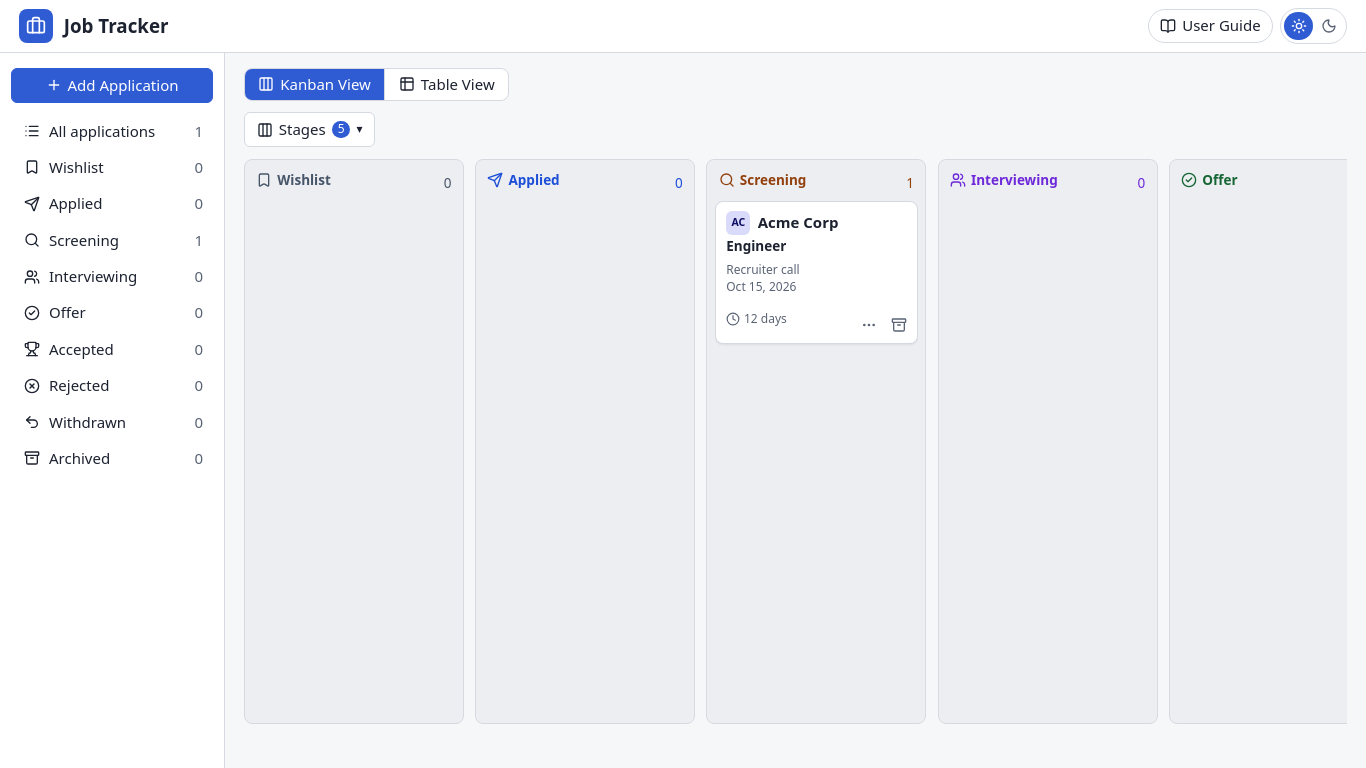
Test: opening an application from the board and editing it (spec 013) › closes the form right away when nothing changed (AC-6)
What coordinates should you click on to do the following:
click the button "AC Acme Corp Engineer Recruiter call Oct 15, 2026 12 days"
I would click on:
 (816, 272)
Its box is [715,201,918,344].
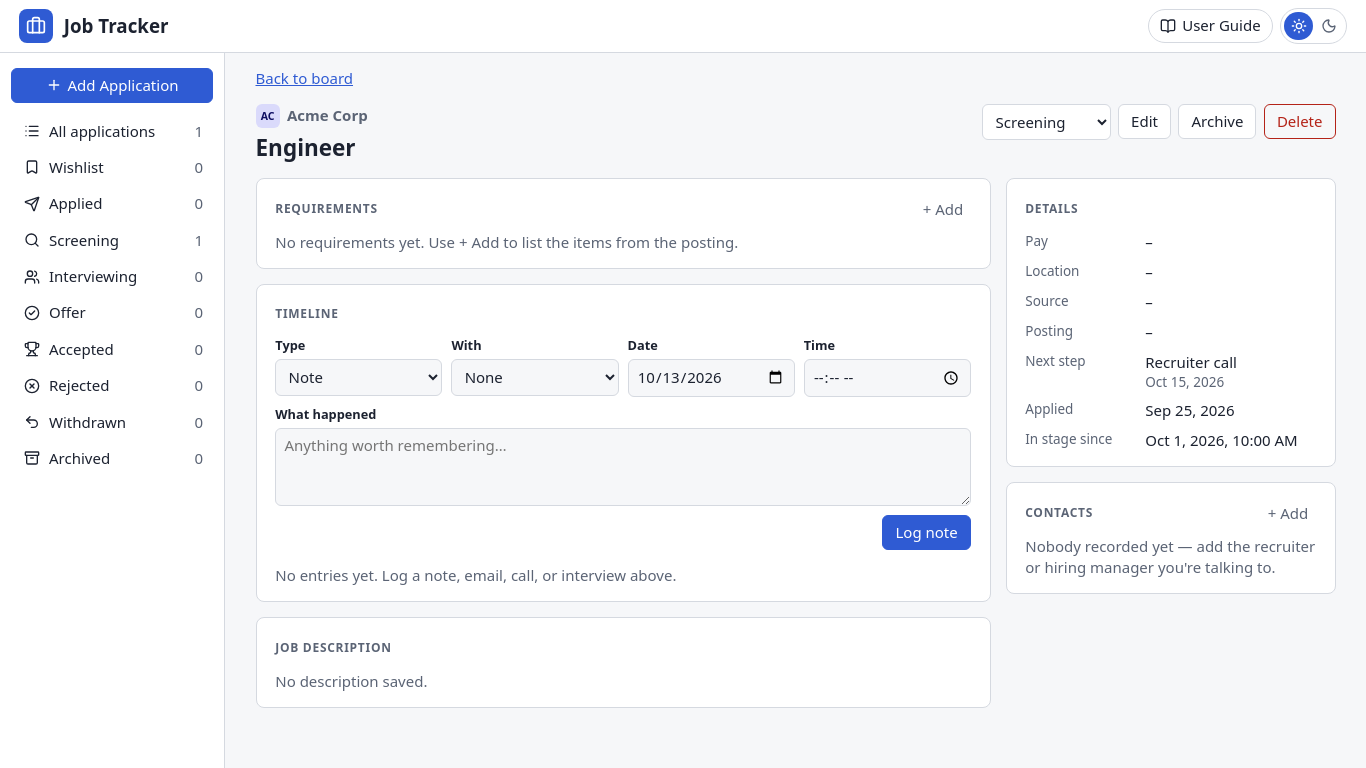
What coordinates should you click on to do the following:
click the button "Edit"
I would click on:
 (1145, 122)
Its box is [1118,104,1171,139].
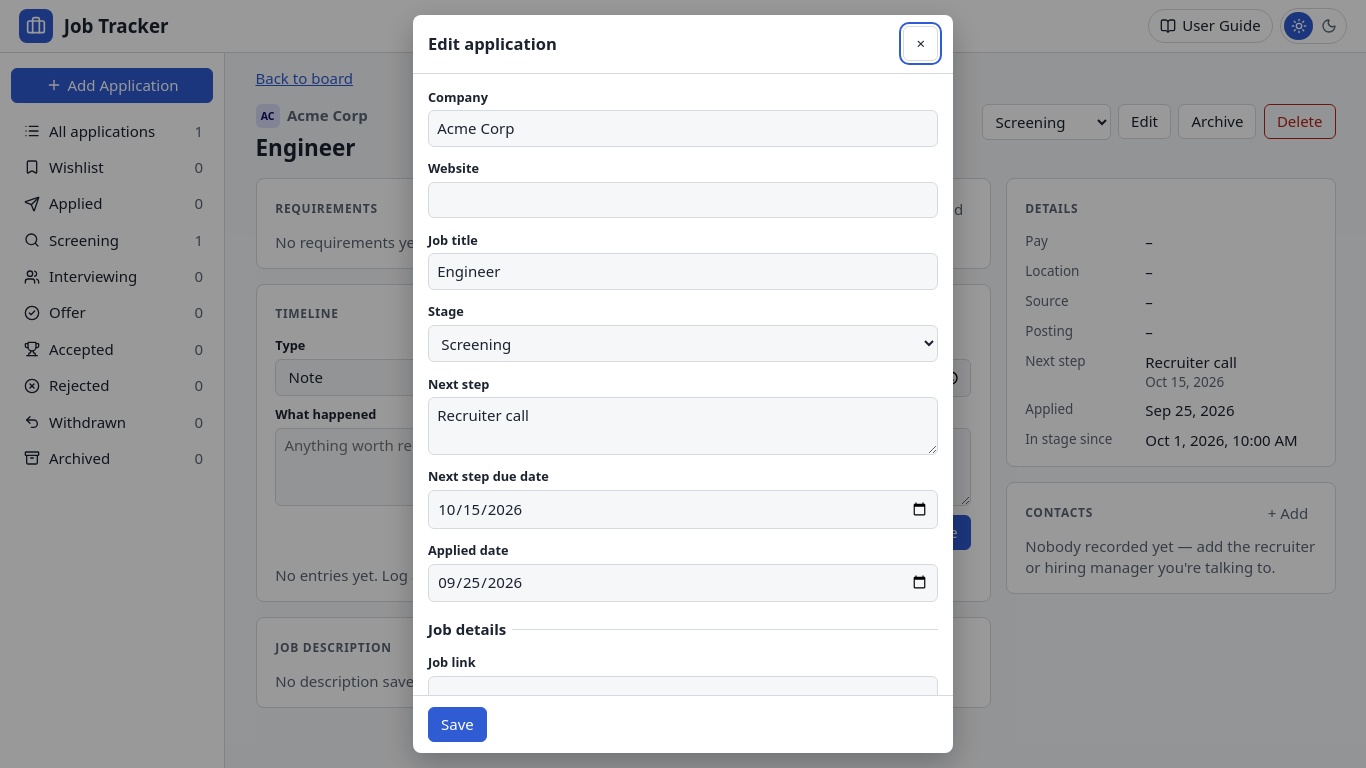
What coordinates should you click on to do the following:
click the button named "Close"
I would click on:
 (921, 44)
Its box is [903,26,938,61].
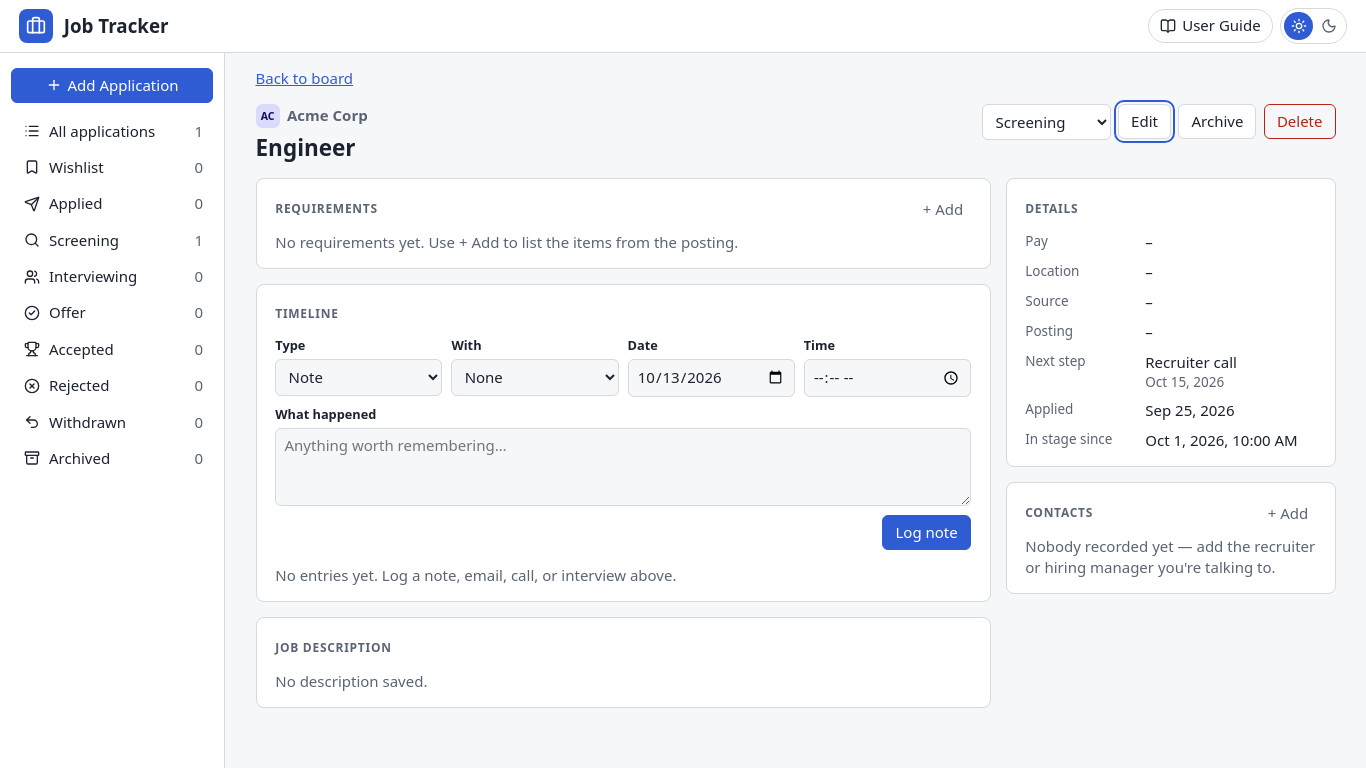
Check: the dialog is gone
